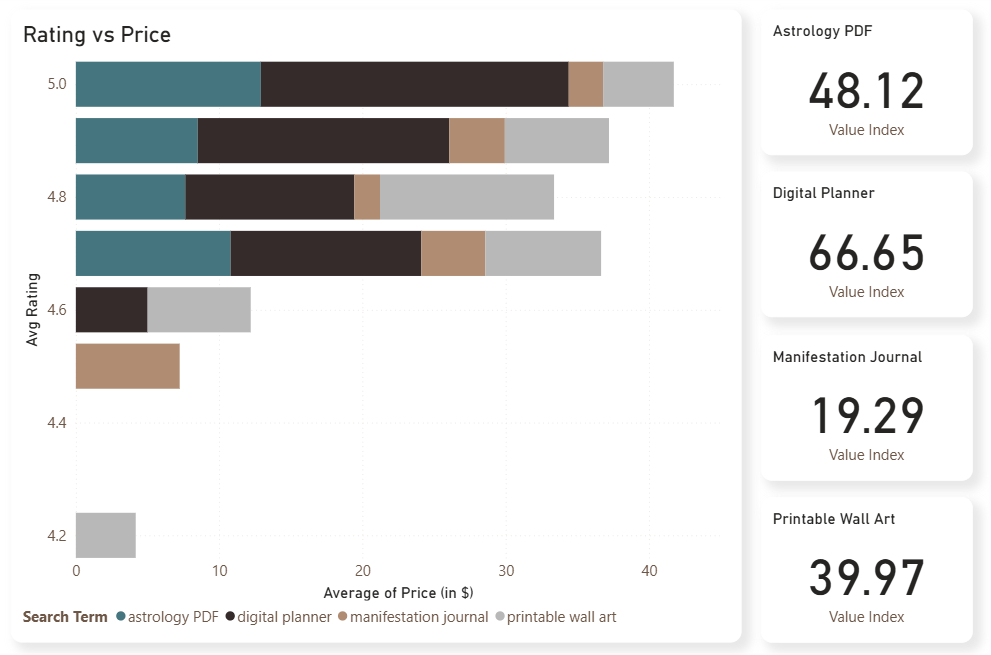

What the dashboard file says about the page in this screenshot:
{"tool":"powerbi","page":{"name":"Value filtering","canvas":[1280,720],"ordinal":2},"visuals":[{"type":"group","id":"g1","title":"Group 1","box":[930,17.8,228.6,683.9],"z":0,"group":"g2"},{"type":"card","title":"Astrology PDF","fields":{"Values":["Main Etsy Data Table.Value Index"]},"box":[930.3,17.8,228.6,157.1],"z":0,"group":"g1"},{"type":"barChart","title":"Rating vs Price","fields":{"Category":["Main Etsy Data Table.Avg Rating"],"Series":["Google Trends Data Table.Search Term"],"Y":["Avg(Main Etsy Data Table.Price (in $))"]},"box":[119.8,18.4,788.3,683.3],"z":1000,"group":"g2"},{"type":"card","title":"Digital Planner","fields":{"Values":["Main Etsy Data Table.Value Index"]},"box":[930,193.4,228.6,157.1],"z":1000,"group":"g1"},{"type":"group","id":"g2","title":"Group 2","box":[119.8,17.8,1037.9,683.3],"z":1001},{"type":"card","title":"Manifestation Journal","fields":{"Values":["Main Etsy Data Table.Value Index"]},"box":[930,369,228.6,157.1],"z":2000,"group":"g1"},{"type":"card","title":"Printable Wall Art","fields":{"Values":["Main Etsy Data Table.Value Index"]},"box":[930,544.6,228.6,157.1],"z":3000,"group":"g1"}]}

Visuals, with their boxes on the page's 1280x720 design canvas (x1, y1, x2, y2). These are canvas units, not pixel positions in the 991x655 screenshot, which may show the page scaled, cropped or inside an application window:
"Group 1" group: <box>930,18,1159,702</box>
"Astrology PDF" card: <box>930,18,1159,175</box>
"Rating vs Price" barChart: <box>120,18,908,702</box>
"Digital Planner" card: <box>930,193,1159,350</box>
"Group 2" group: <box>120,18,1158,701</box>
"Manifestation Journal" card: <box>930,369,1159,526</box>
"Printable Wall Art" card: <box>930,545,1159,702</box>
